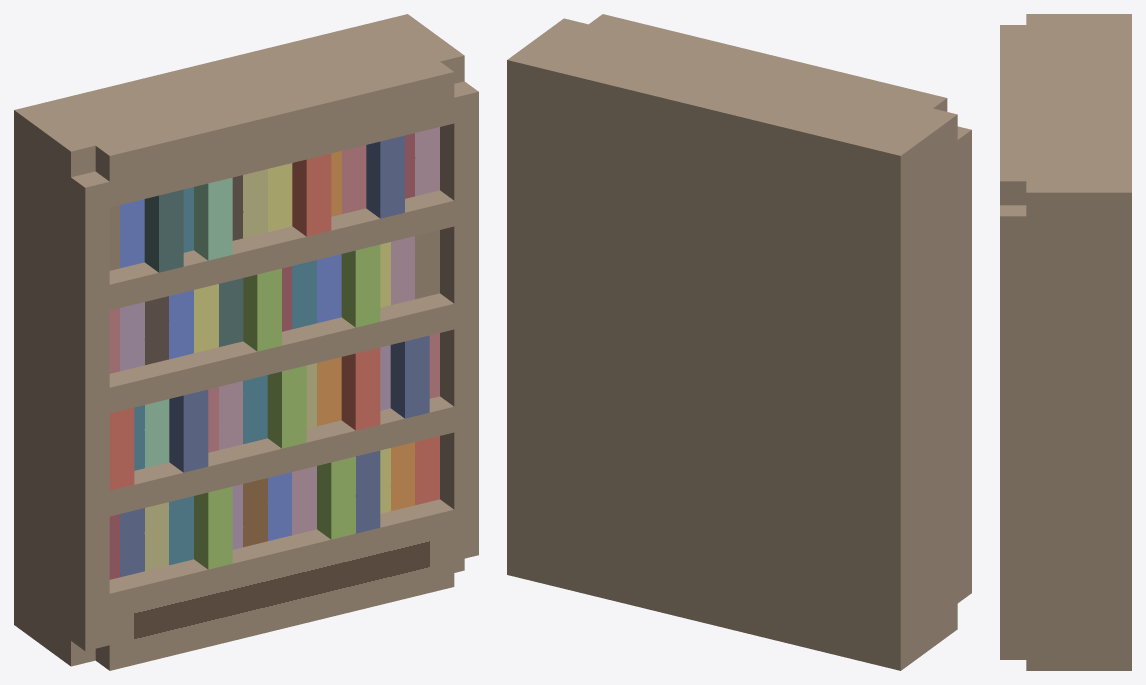
The model's file is polkazksiazkami.dae.
3 views of the same model, side by side, from view 1: azimuth 30°, elevation 25°; view 2: azimuth 150°, elevation 25°; view 3: azimuth 270°, elevation 25° (orthographic). The views are drawn at different scales.
Visible parts, largest first — view 1: regalzksiazkami1; view 2: regalzksiazkami1; view 3: regalzksiazkami1.
Boxes of the visible parts, x1=… form: regalzksiazkami1: x1=14, y1=14, x2=478, y2=670; regalzksiazkami1: x1=507, y1=14, x2=971, y2=670; regalzksiazkami1: x1=1000, y1=14, x2=1131, y2=670.
Size of the model in its own units: 16 by 20 by 5.
Materials: 1 (1 with a texture image).
